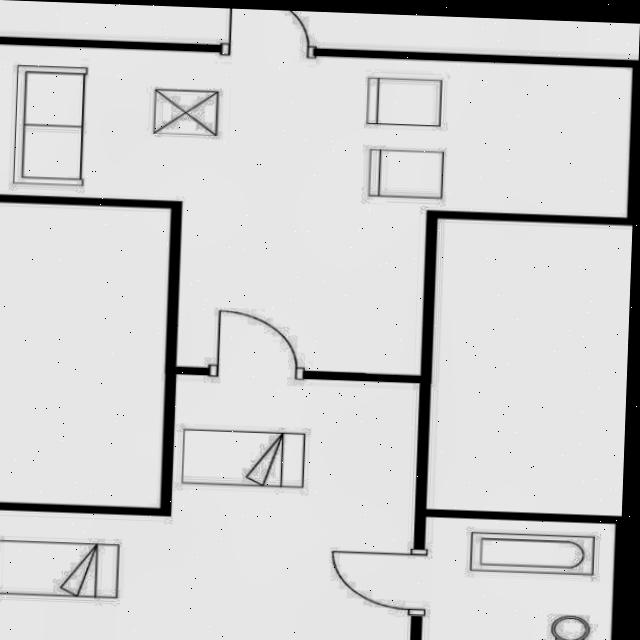room: (0, 44, 633, 383), (0, 374, 420, 640), (421, 517, 616, 640)
